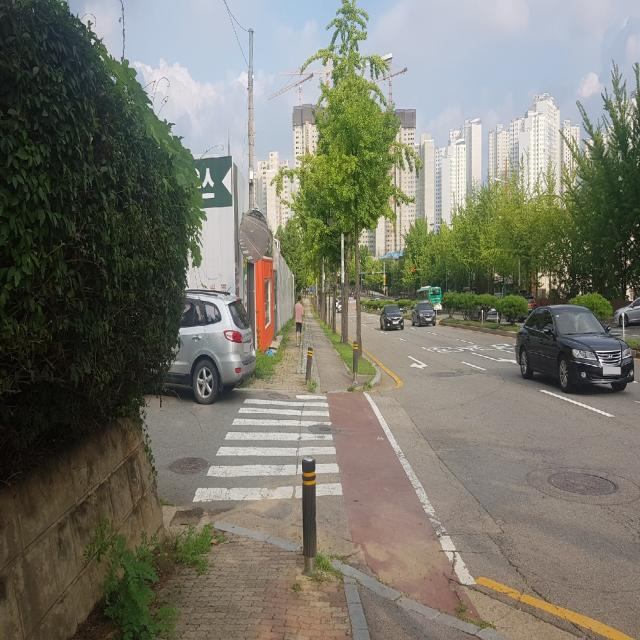횡단보도: (192, 392, 344, 502)
